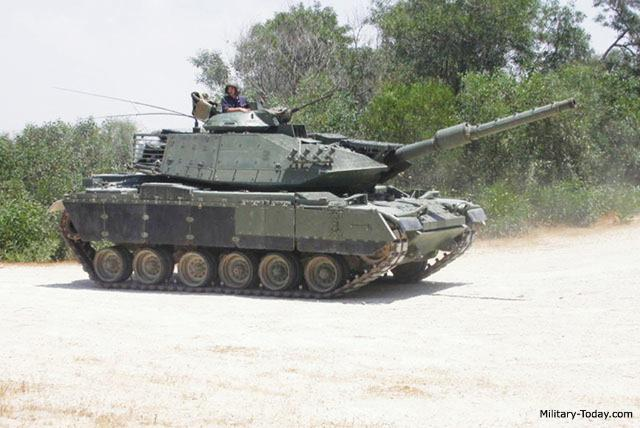other: (215, 80, 242, 109)
tank: (67, 105, 475, 292)
